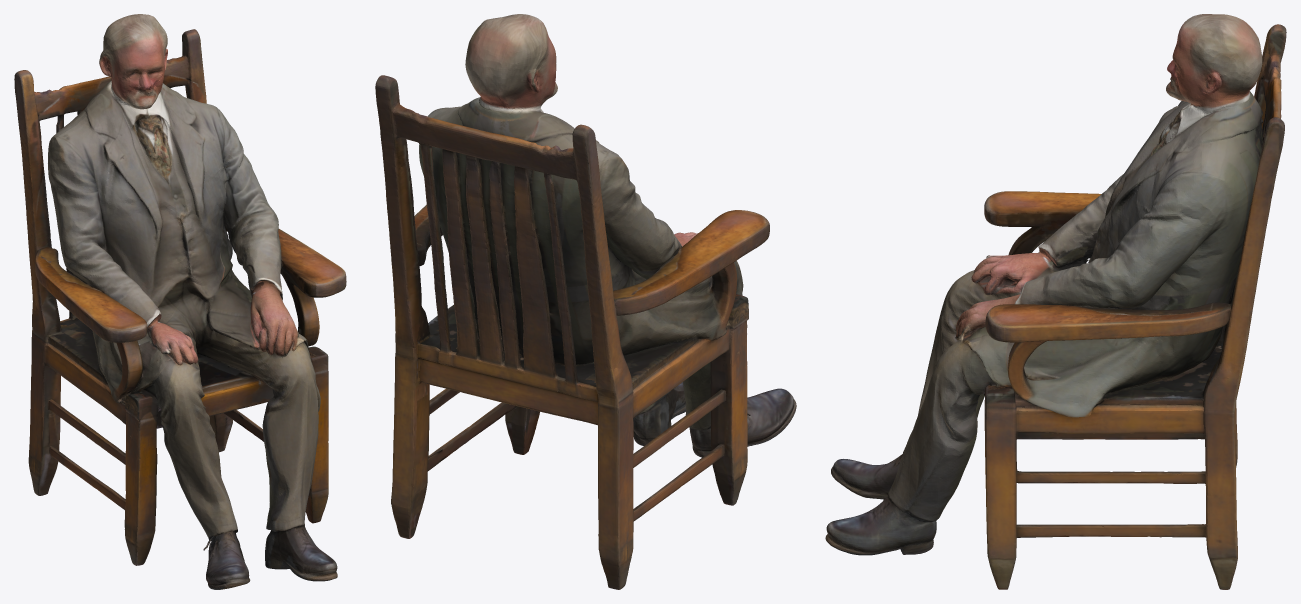
Rendered from Un_señor_terratenie_0403172222_texture.fbx.
3 views of the same model, side by side, from view 1: azimuth 30°, elevation 25°; view 2: azimuth 150°, elevation 25°; view 3: azimuth 270°, elevation 25° (orthographic). The views are drawn at different scales.
Parts seen in each view (by area): view 1: temp; view 2: temp; view 3: temp.
Part boxes in pixels (x1=…): temp: x1=14, y1=14, x2=346, y2=589; temp: x1=375, y1=14, x2=796, y2=589; temp: x1=825, y1=14, x2=1286, y2=589.
Size of the model in its own units: 111 by 200 by 159.
Materials: 1 (1 with a texture image).
